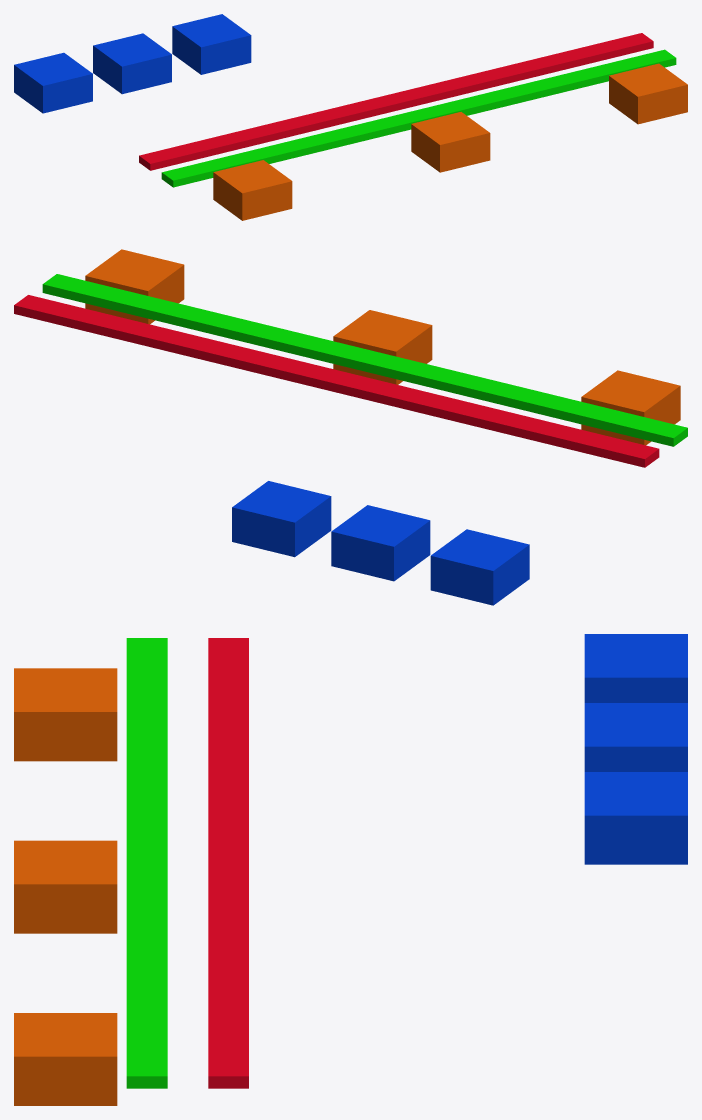
Rendered from box_restaurant_routes.dae.
3 views of the same model, one above another, from view 1: azimuth 30°, elevation 25°; view 2: azimuth 150°, elevation 25°; view 3: azimuth 270°, elevation 25° (orthographic). The views are drawn at different scales.
Parts seen in each view (by area): view 1: INPath, INPath.001, Home1.001, Home3, Home1.002, Home1, Home2, Home1.003; view 2: INPath, INPath.001, Home1, Home3, Home2, Home1.001, Home1.002, Home1.003; view 3: INPath.001, INPath, Home1.001, Home1.002, Home3, Home1.003, Home1, Home2.
Boxes of the visible parts, <box> form: INPath: <box>139,33,653,170</box>; INPath.001: <box>161,49,676,187</box>; Home1.001: <box>213,160,292,220</box>; Home3: <box>172,14,251,74</box>; Home1.002: <box>411,112,490,172</box>; Home1: <box>14,52,92,113</box>; Home2: <box>93,33,171,94</box>; Home1.003: <box>609,63,687,124</box>; INPath: <box>14,295,659,467</box>; INPath.001: <box>42,274,687,446</box>; Home1: <box>430,529,529,605</box>; Home3: <box>232,481,331,557</box>; Home2: <box>331,505,430,581</box>; Home1.001: <box>581,370,680,445</box>; Home1.002: <box>333,310,432,384</box>; Home1.003: <box>85,249,184,324</box>; INPath.001: <box>126,638,167,1088</box>; INPath: <box>208,638,248,1088</box>; Home1.001: <box>14,668,117,761</box>; Home1.002: <box>14,840,117,933</box>; Home3: <box>584,772,687,864</box>; Home1.003: <box>14,1013,117,1105</box>; Home1: <box>584,634,687,702</box>; Home2: <box>584,703,687,771</box>.
Bounding box in the file's own units: 38.31 × 24.8 × 2.
